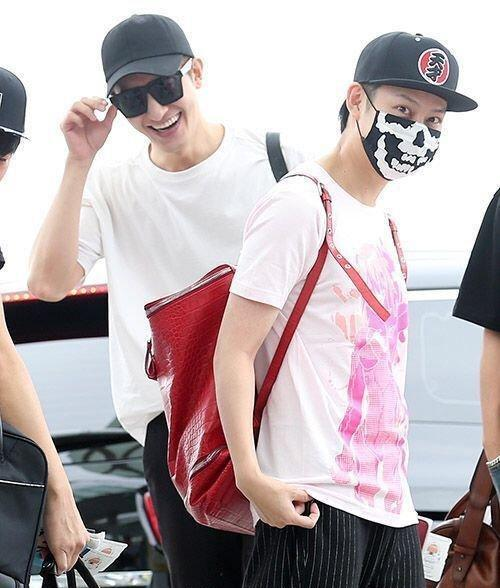NONE: (116, 72, 196, 150)
OK: (369, 92, 447, 177)
